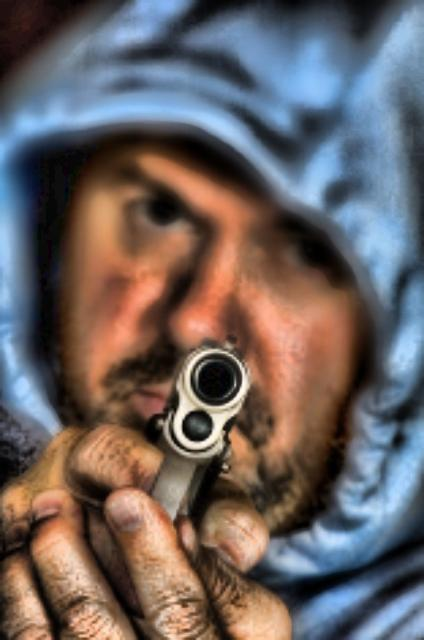pistol: (140, 336, 250, 522)
